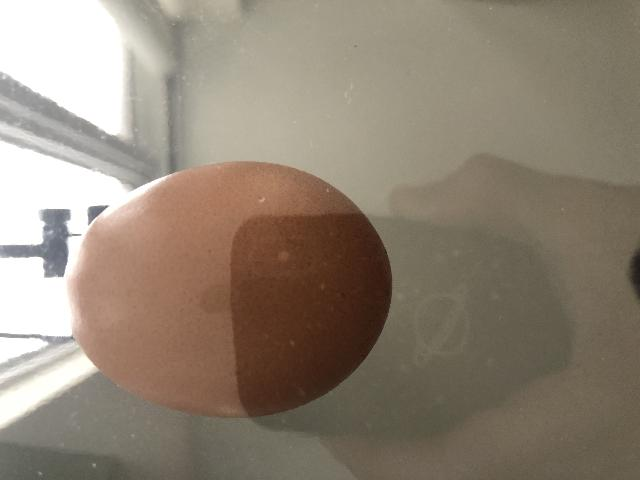Sano: (65, 158, 394, 419)
